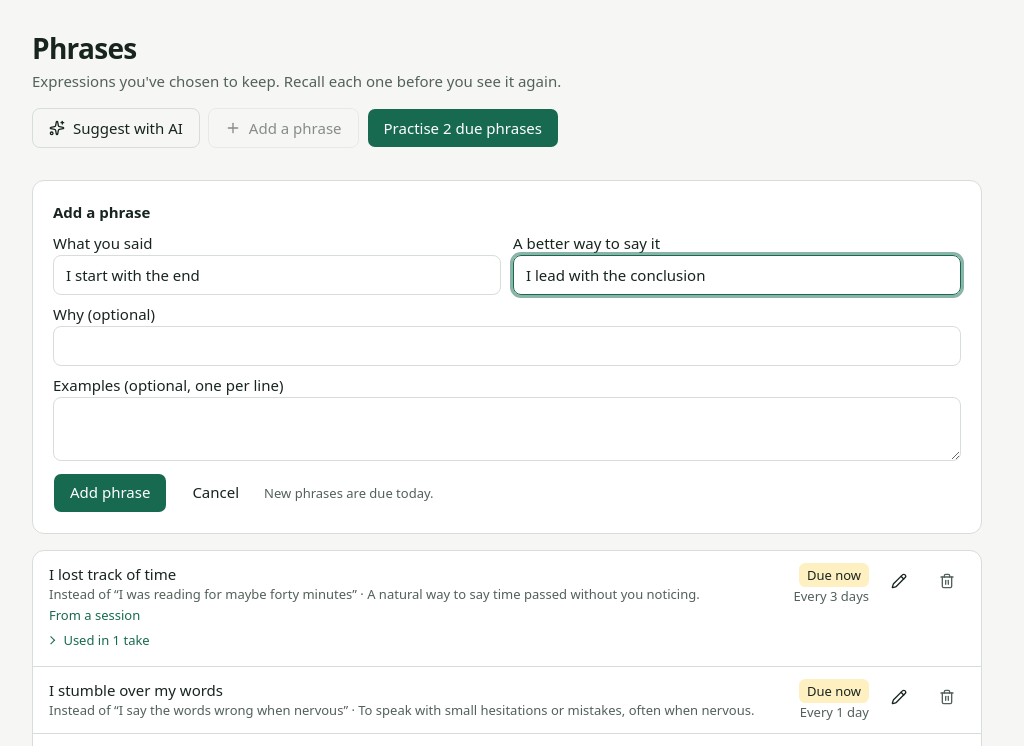
Test: adds a phrase that is new and due today, edits its text and removes it after a confirmation (4.15)
Earlier steps of the test are not shown.
Type "I lead with the conclusion in reviews." into the text box labelled "Examples (optional, one per line)" at x=507, y=429, box [53,397,961,461]
Then press Enter, Enter
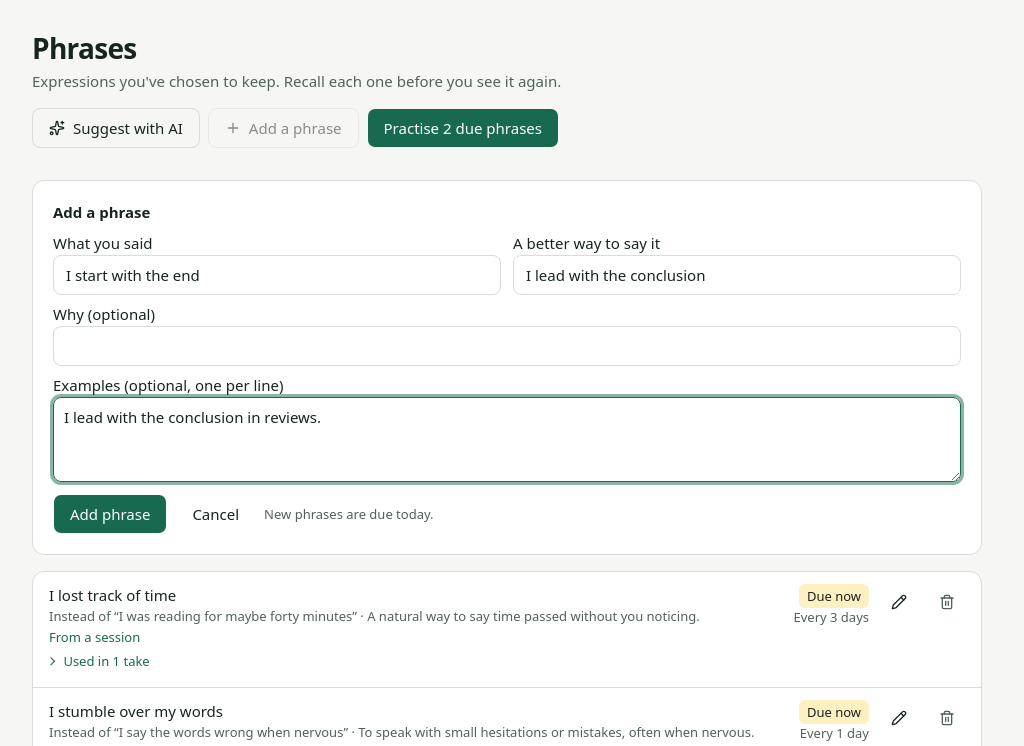
Click the button "Add phrase" at x=110, y=514, box [53,494,167,534]
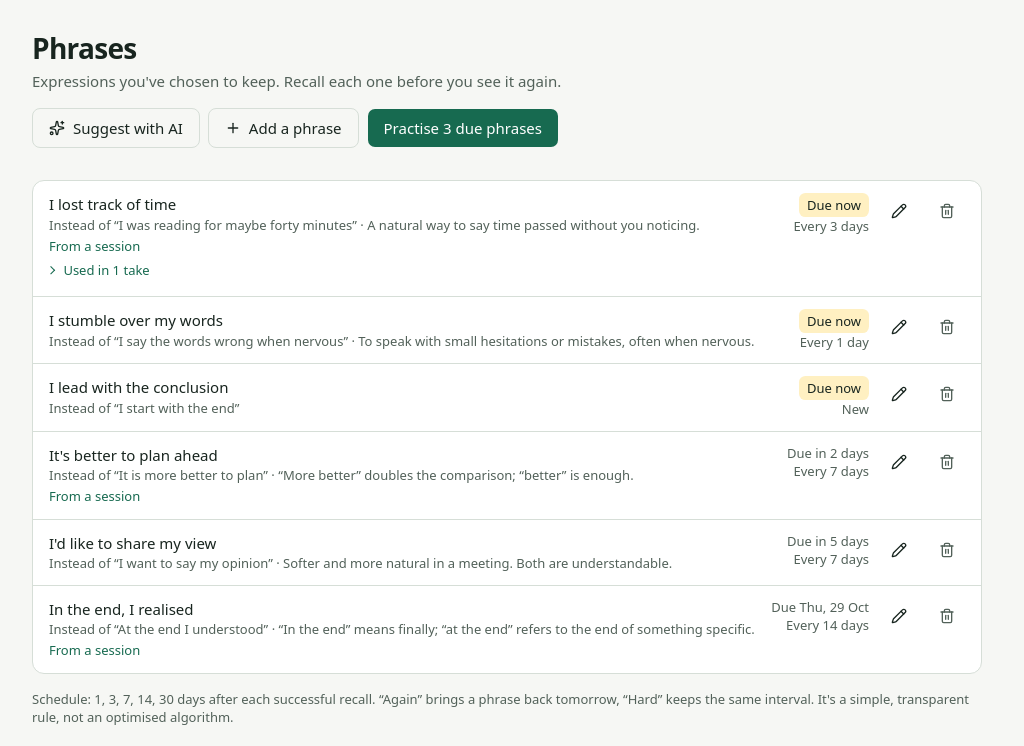
Now the text "New" is shown, box [842,400,869,418]
Now the text "Due now" in the row of "I lead with the conclusion" is shown, box [807,379,861,397]
Click the button named "Edit I lead with the conclusion" at x=899, y=394, box [881,376,917,412]
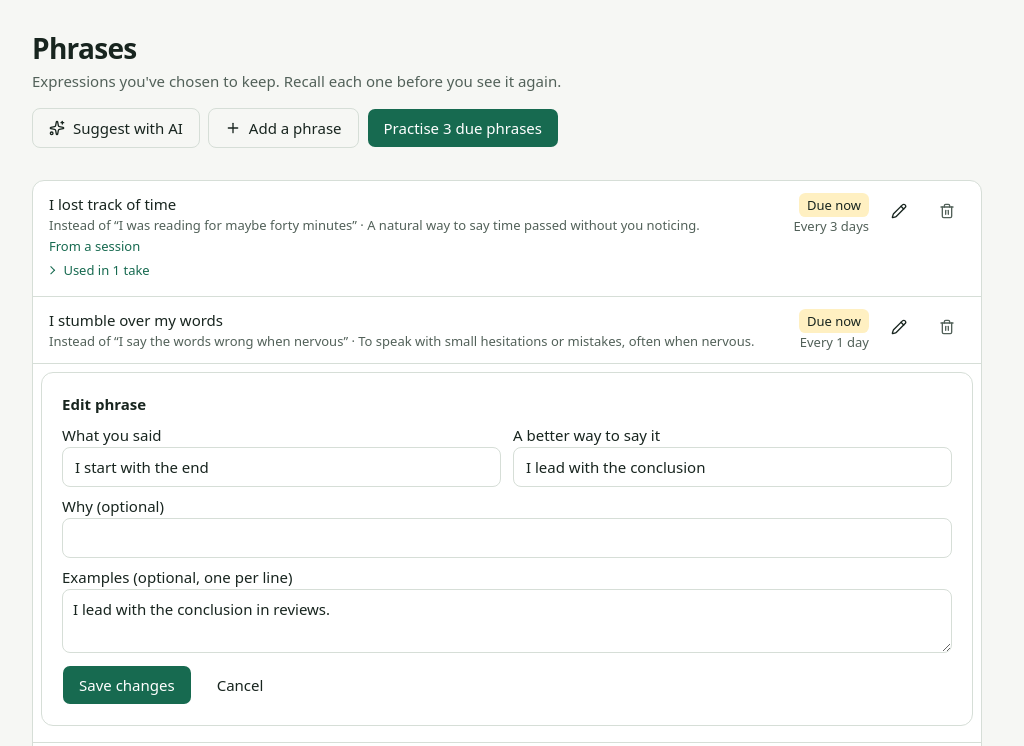
Replace the text in the field labelled "A better way to say it" with "I put the conclusion first" at x=732, y=467, box [513,447,952,487]
Click the button "Save changes" at x=127, y=685, box [62,665,192,705]
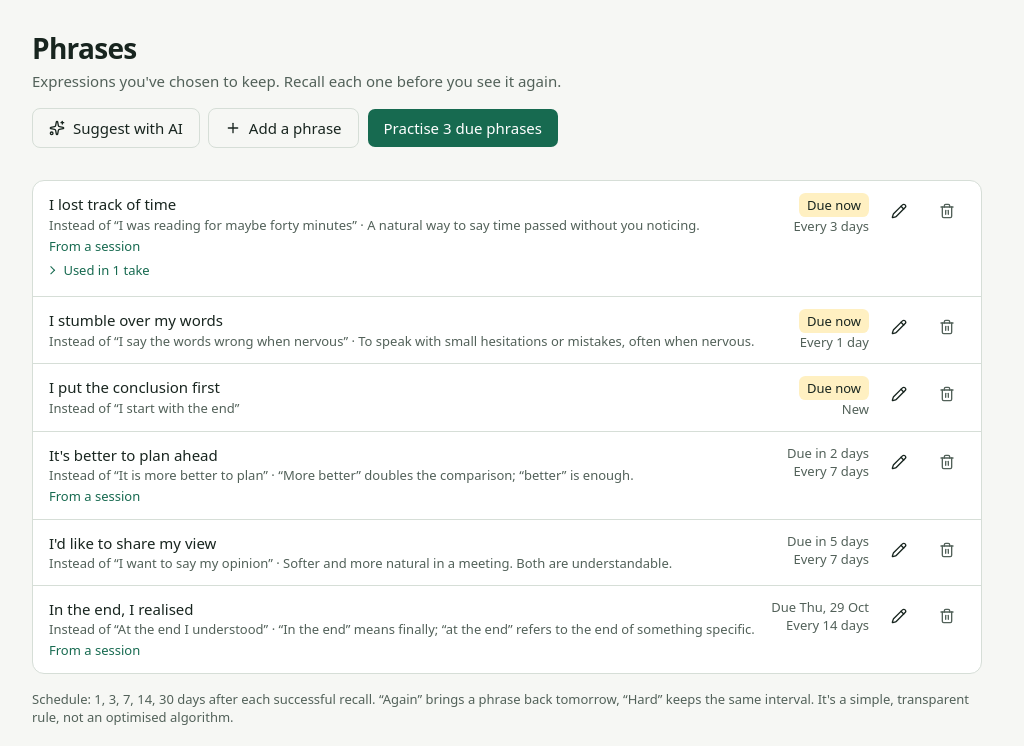
Click the button named "Remove I put the conclusion first" at x=947, y=394, box [929,376,965,412]
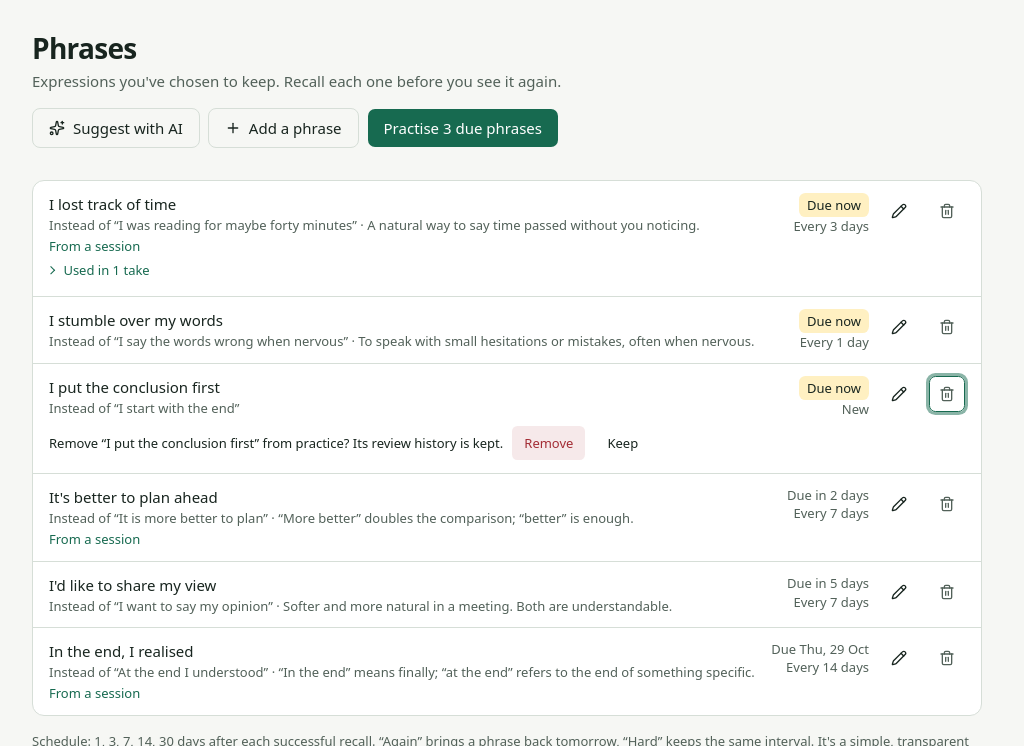
Now the text "Its review history is kept" is shown, box [254,434,503,452]
Click the button "Remove" at x=549, y=443, box [511,425,586,461]
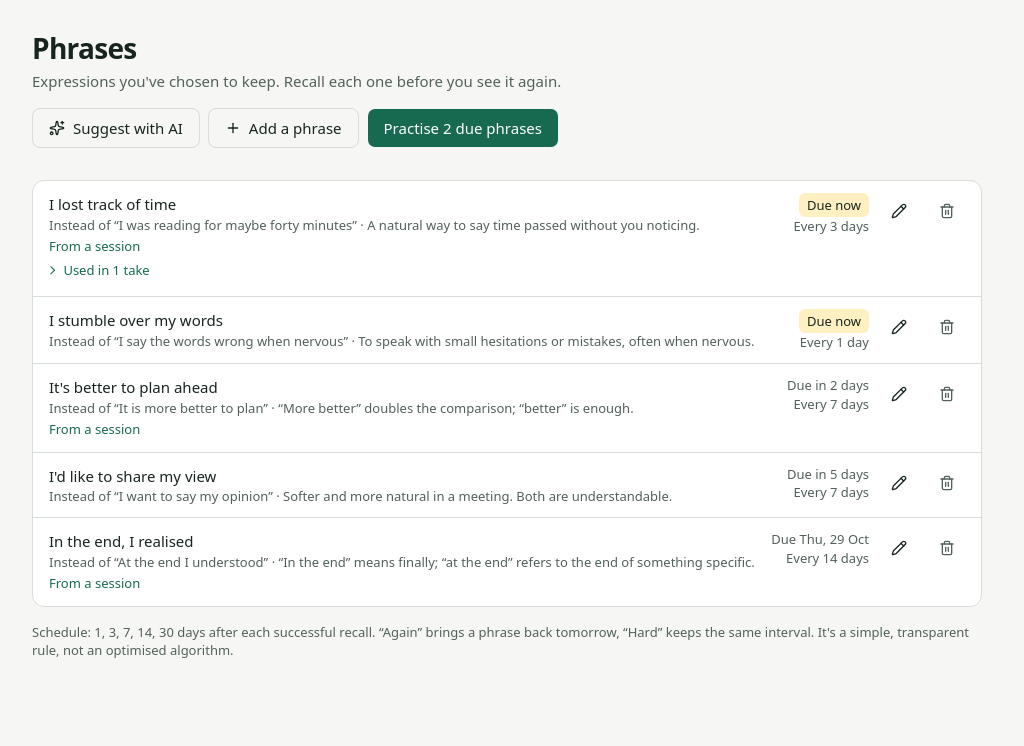
Now the text "I put the conclusion first" is gone
